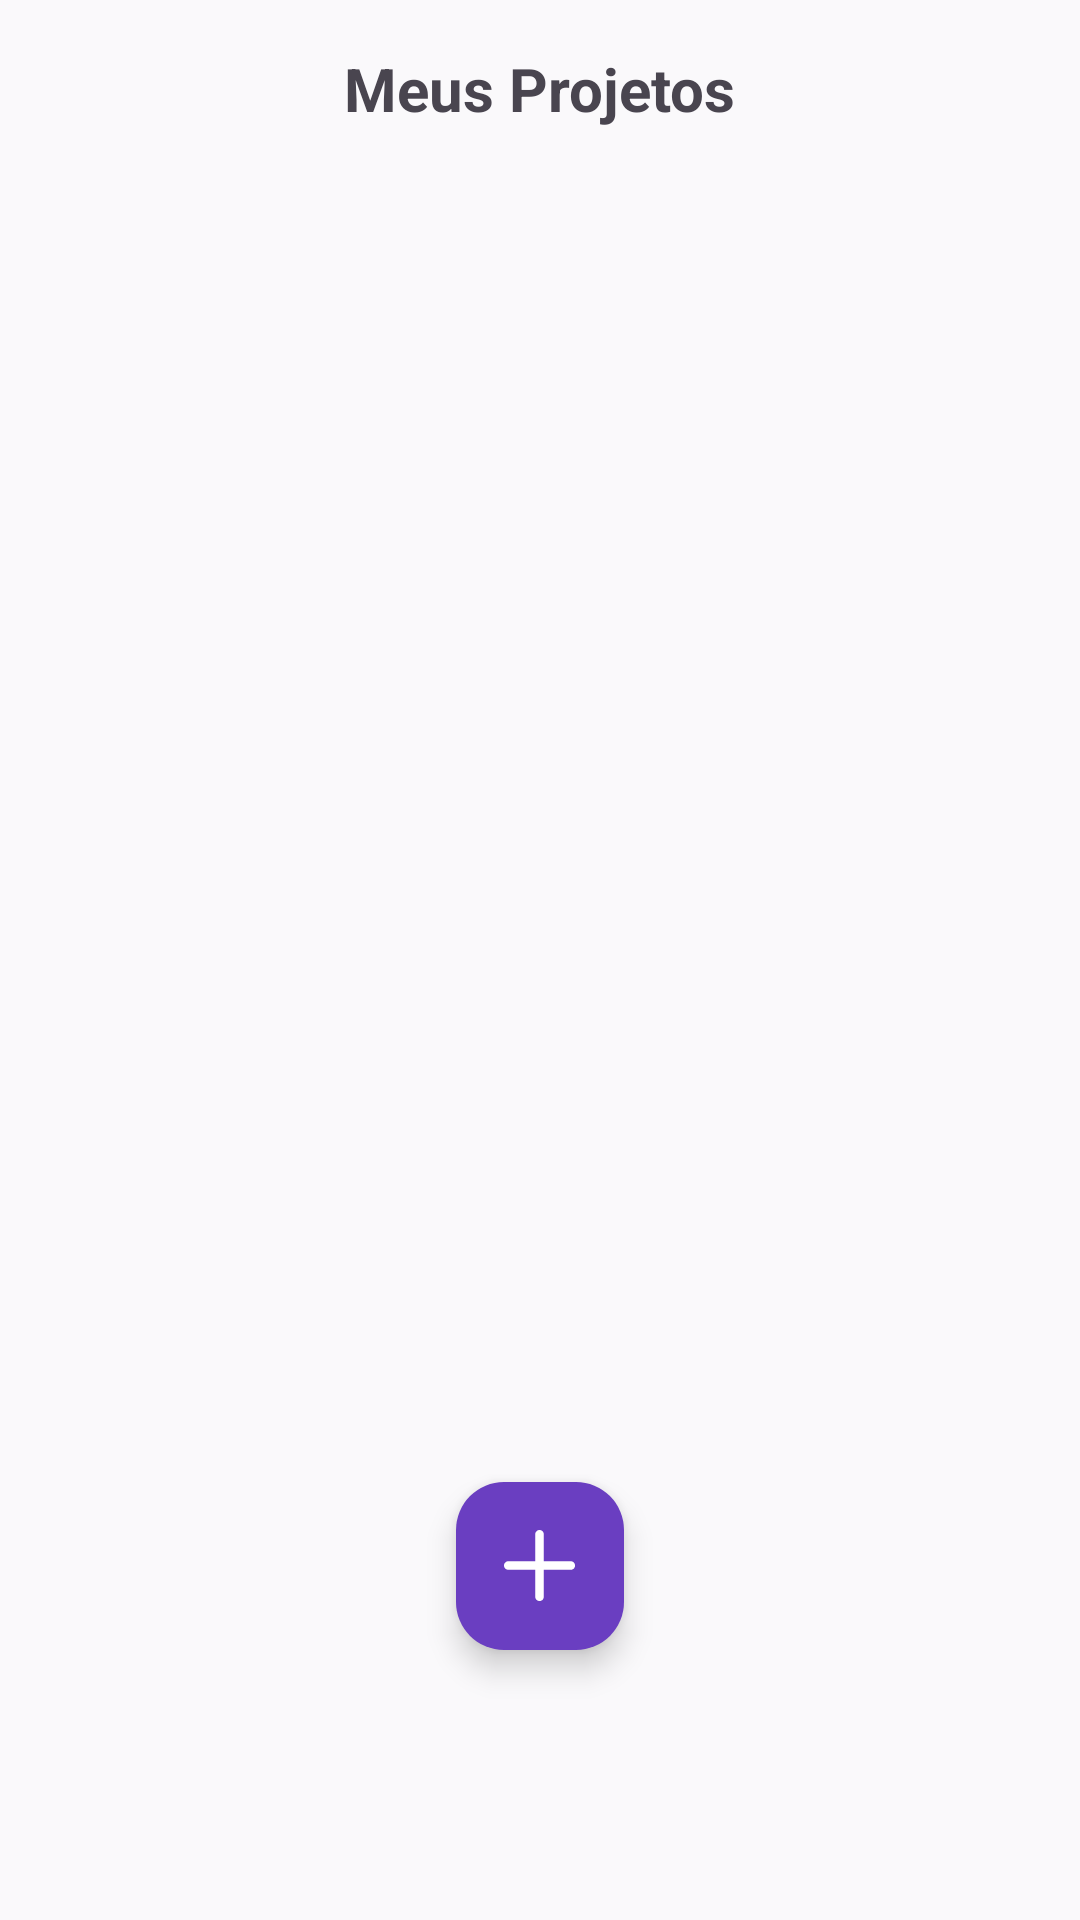

Screen size 1080px x 1920px. Icon name, then its center in pixels as (x=x, y=y):
Adicionar projeto: (x=540, y=1566)
